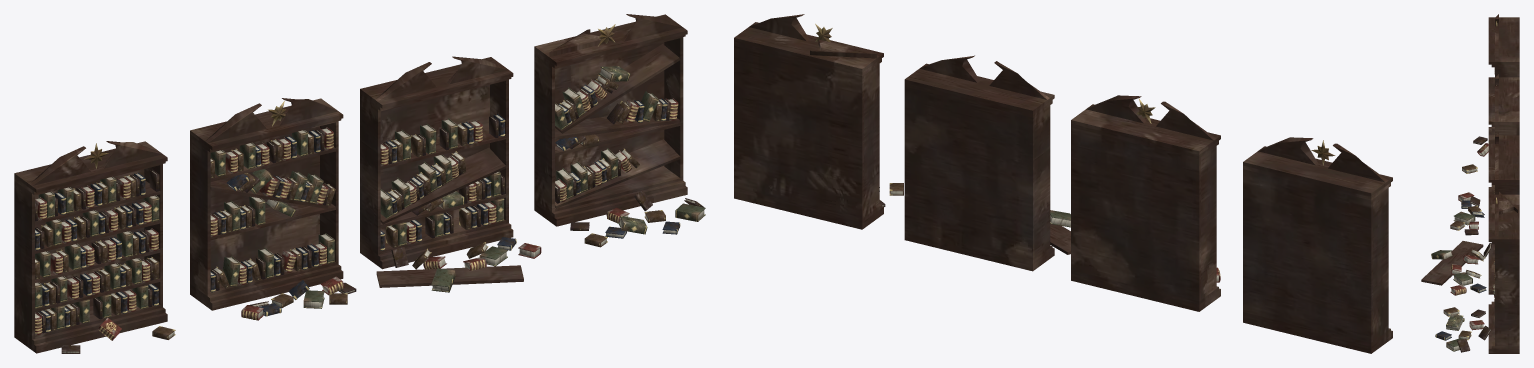
The model's file is estantes-livros.glb.
3 views of the same model, side by side, from view 1: azimuth 30°, elevation 25°; view 2: azimuth 150°, elevation 25°; view 3: azimuth 270°, elevation 25° (orthographic). The views are drawn at different scales.
Visible parts, largest first — view 1: Bookcase_1, Book; view 2: Bookcase_1, Book; view 3: Bookcase_1, Book.
Part boxes in pixels (x1,y1,x2,y2): Bookcase_1: [14, 14, 687, 353]; Book: [35, 66, 705, 353]; Bookcase_1: [734, 14, 1392, 353]; Book: [879, 183, 1220, 282]; Bookcase_1: [1421, 14, 1519, 353]; Book: [1431, 67, 1494, 352].
Size of the model in its own units: 9.34 by 2.62 by 1.75.
2 materials, 2 textured.
